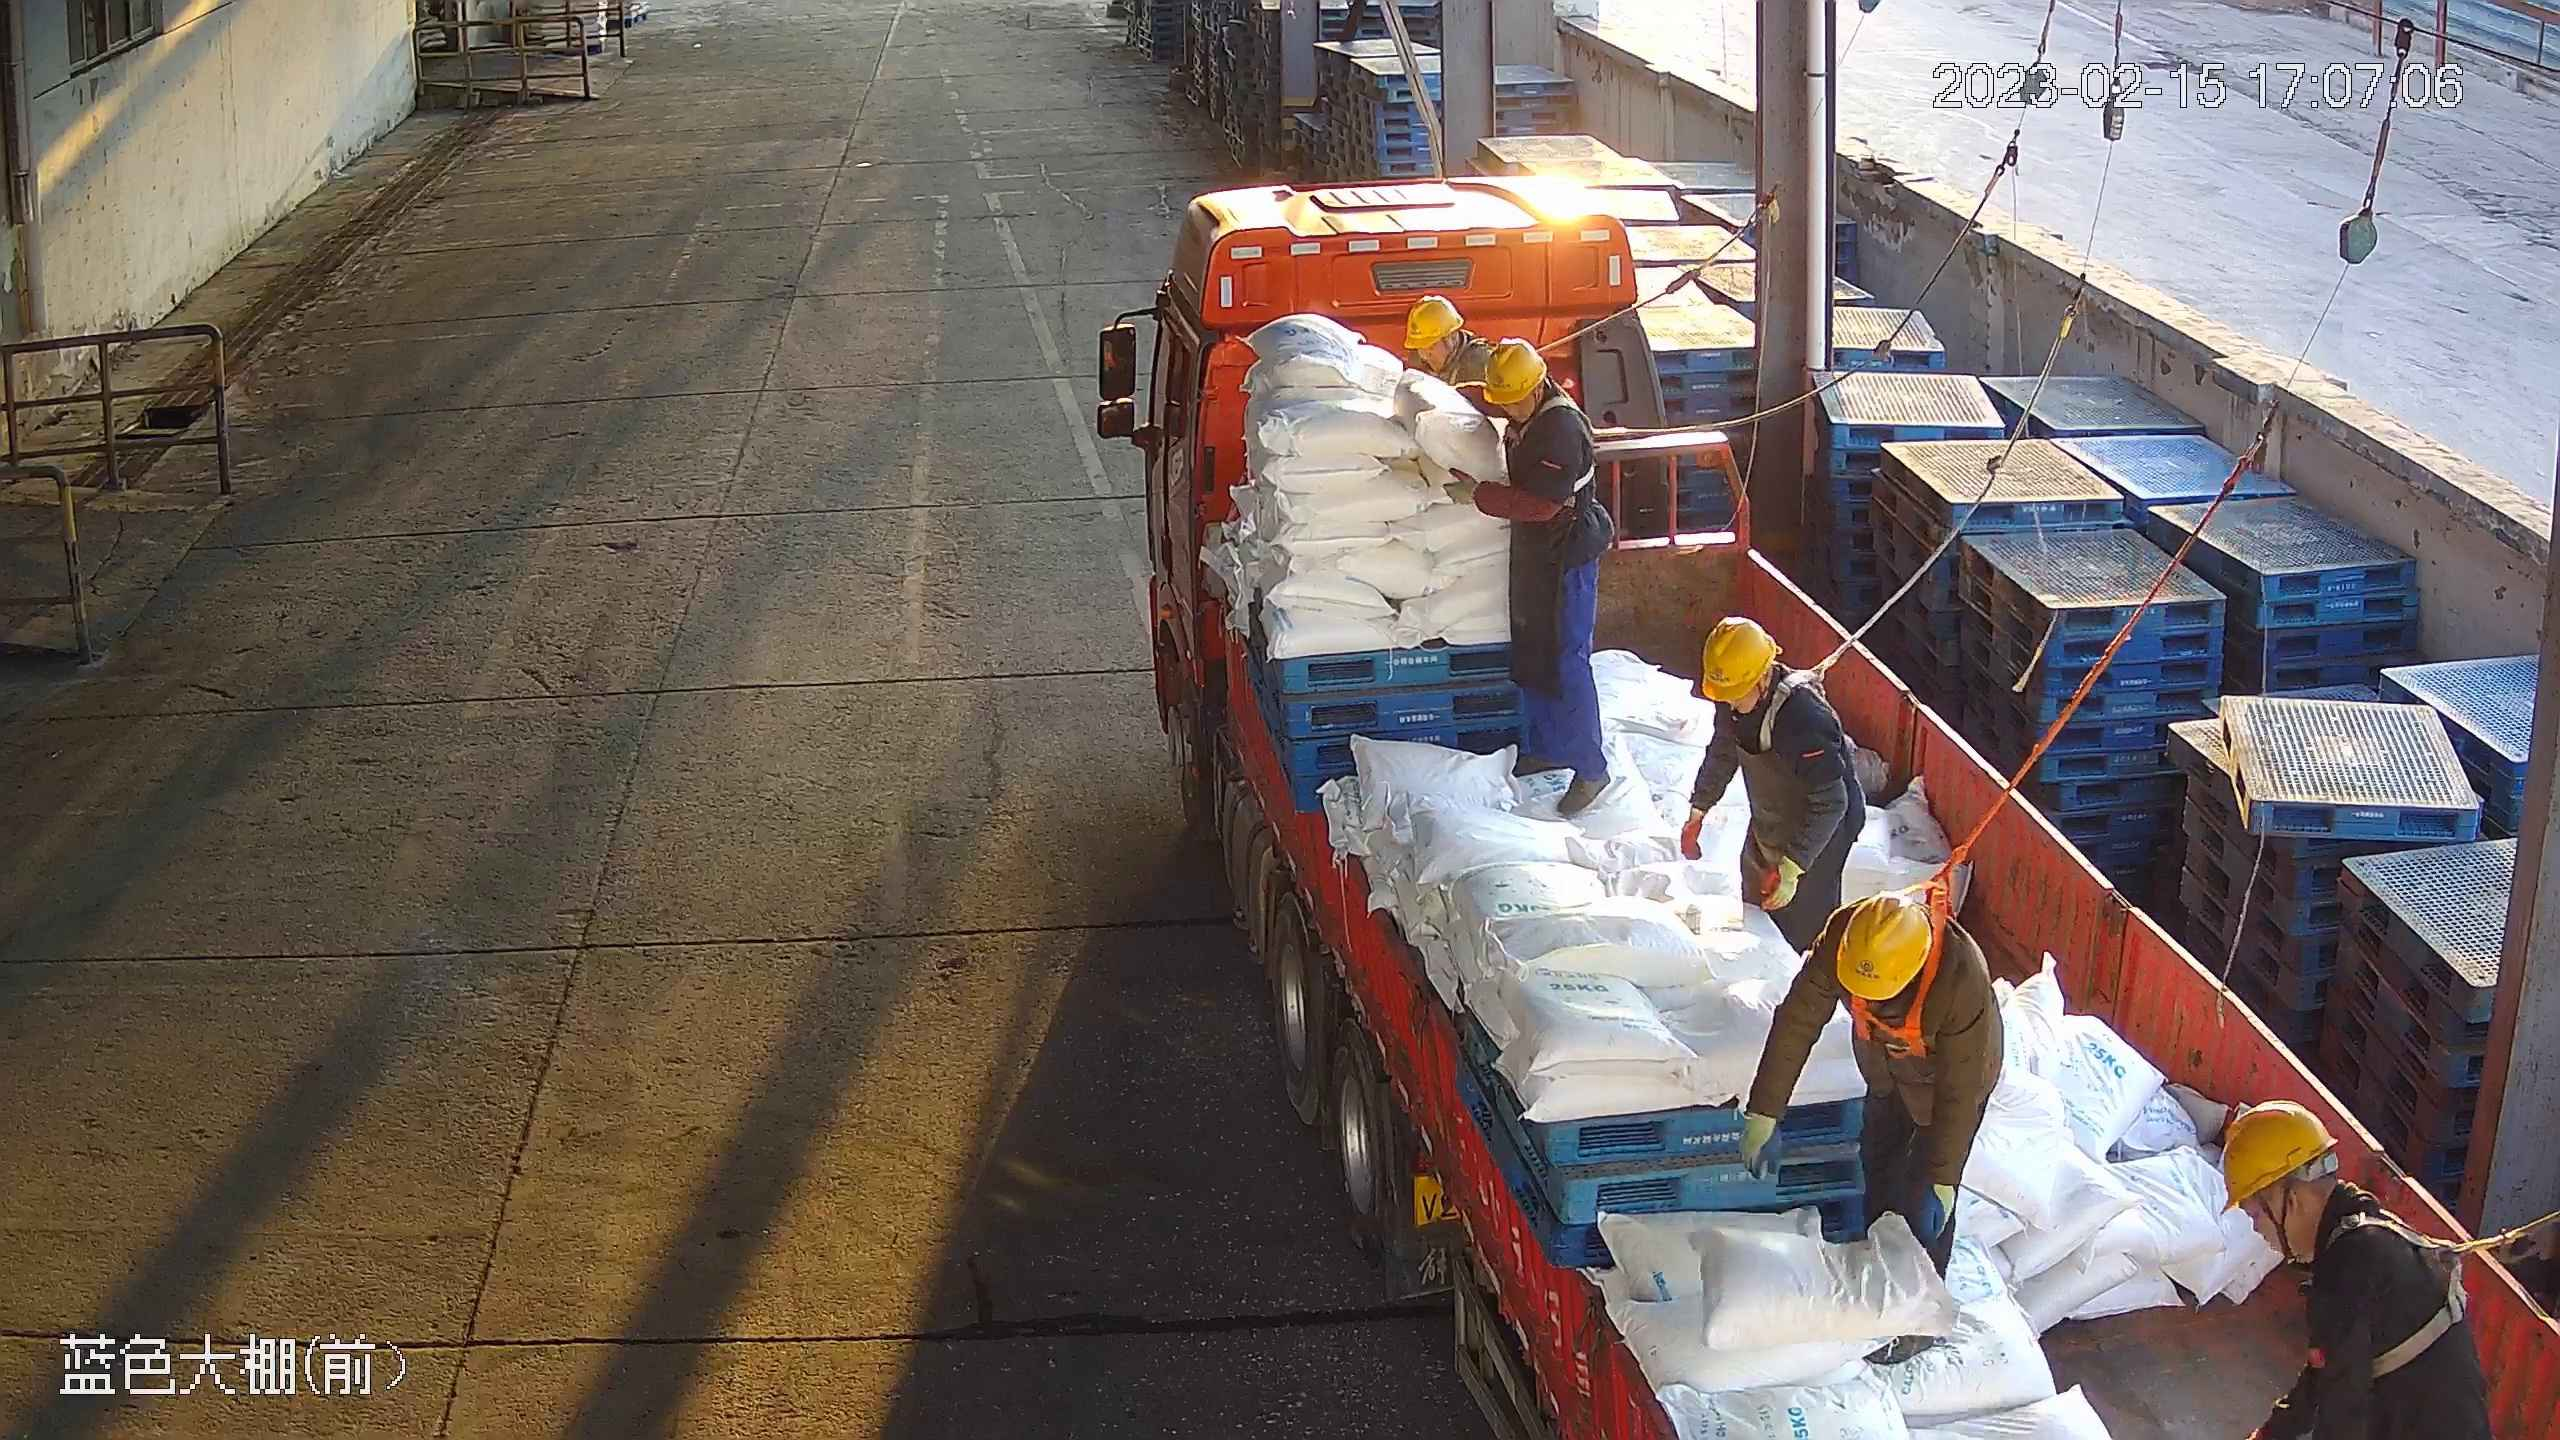belt: (2354, 1191, 2495, 1379), (1847, 863, 1962, 1059), (1512, 395, 1633, 497), (1760, 647, 1839, 758)
head: (2219, 1103, 2401, 1333), (1787, 889, 2006, 1060), (1445, 331, 1603, 499), (1681, 616, 1828, 766), (1398, 297, 1499, 386)
helmet: (2222, 1105, 2338, 1215), (1836, 895, 1933, 1005), (1700, 615, 1781, 706), (1486, 340, 1551, 405), (1403, 296, 1467, 350)
people: (1736, 890, 2009, 1370), (1439, 332, 1619, 819), (1680, 613, 1867, 953)
truck: (1090, 171, 2560, 1440)
